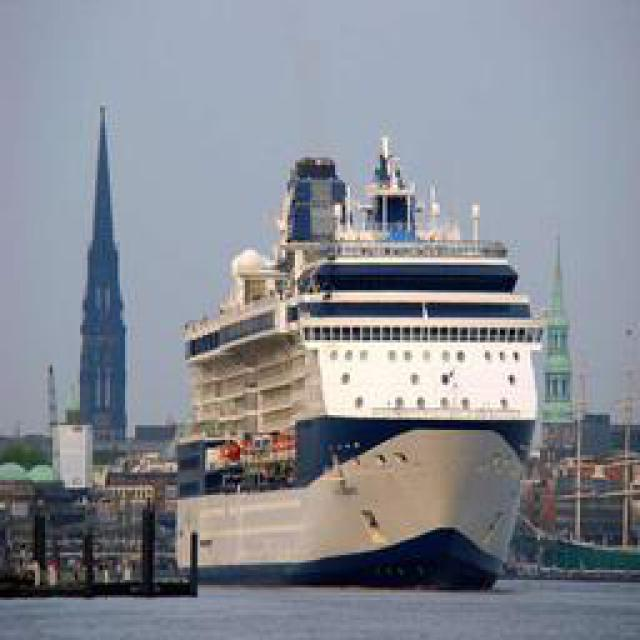Ship: (160, 125, 545, 573)
